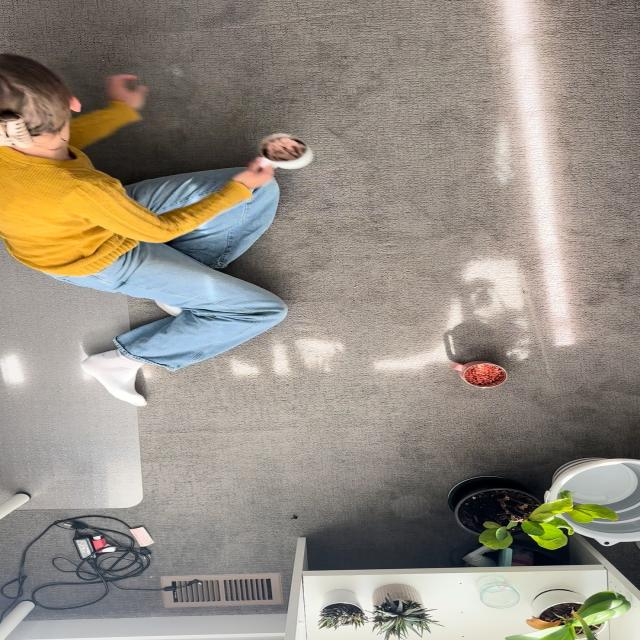IBC: (261, 134, 313, 170), (450, 360, 507, 388)
